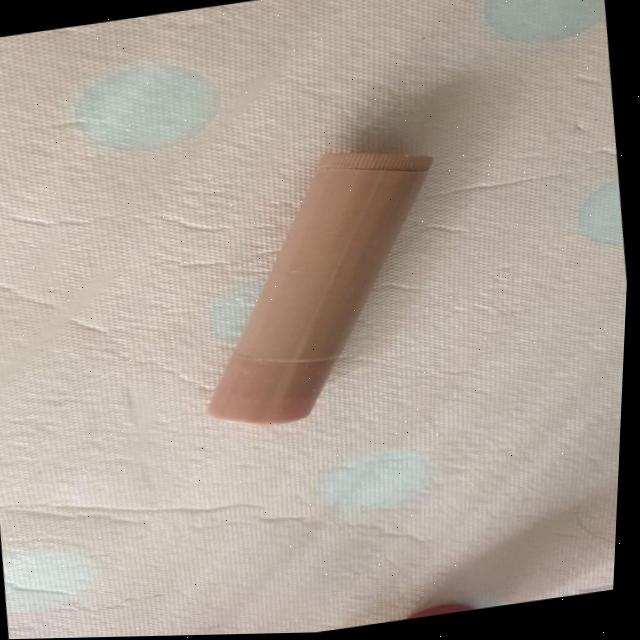lip stick: (154, 115, 511, 455)
